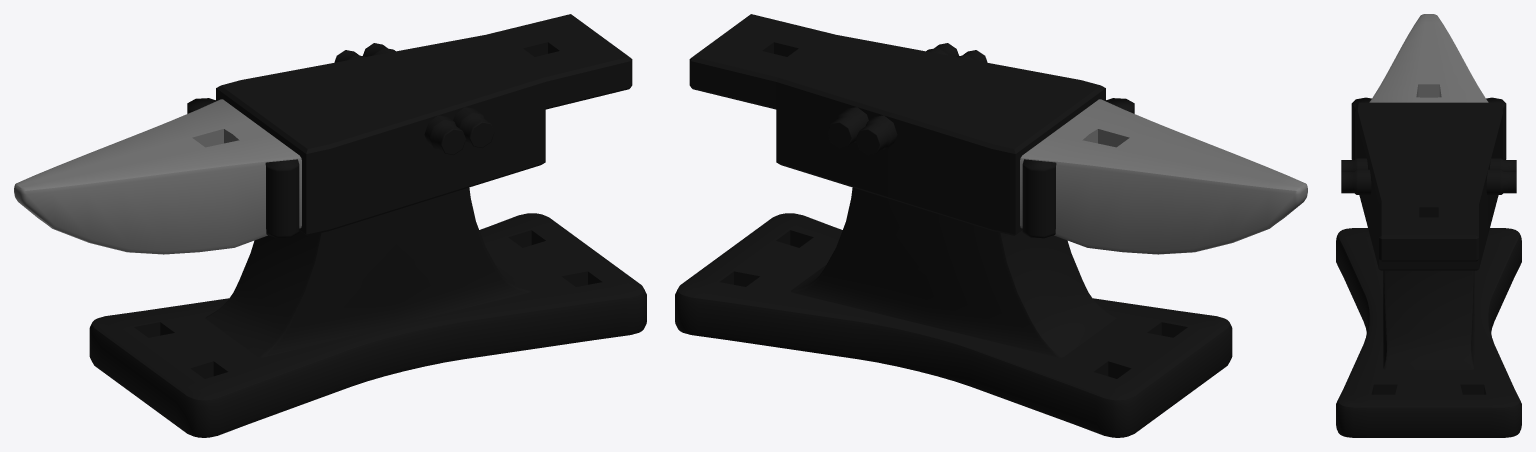
File: bigorna.fbx
The picture shows the model from 3 angles, left to right: view 1: azimuth 30°, elevation 25°; view 2: azimuth 150°, elevation 25°; view 3: azimuth 270°, elevation 25°; orthographic projection. The views are drawn at different scales.
Visible parts, largest first — view 1: Bigorna_Superior, Bigorna_base, Bigorna_parafuso; view 2: Bigorna_Superior, Bigorna_base, Bigorna_parafuso; view 3: Bigorna_Superior, Bigorna_base, Bigorna_parafuso.
Boxes of the visible parts, bbox=[...] form: Bigorna_Superior: bbox=[14, 14, 632, 357]; Bigorna_base: bbox=[89, 213, 646, 437]; Bigorna_parafuso: bbox=[187, 43, 494, 238]; Bigorna_Superior: bbox=[689, 14, 1307, 357]; Bigorna_base: bbox=[675, 213, 1232, 437]; Bigorna_parafuso: bbox=[827, 43, 1134, 238]; Bigorna_Superior: bbox=[1355, 14, 1502, 369]; Bigorna_base: bbox=[1336, 228, 1521, 437]; Bigorna_parafuso: bbox=[1341, 97, 1516, 194].
Bounding box in the file's own units: 177 × 73.49 × 59.99.
